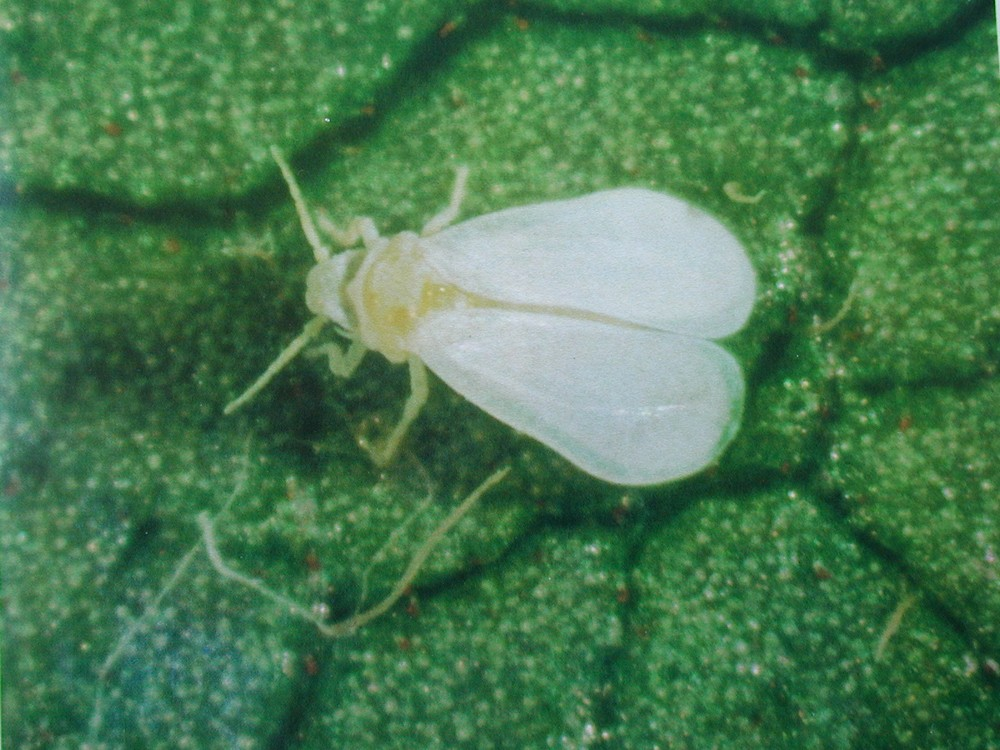Mosca Blanca: (235, 129, 771, 542)
